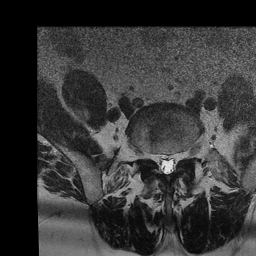CCS_normal: (163, 147, 171, 180)
LFS_normal: (178, 144, 186, 166)
LLS_normal: (171, 148, 178, 176)
RFS_normal: (145, 144, 154, 167)
RLS_normal: (154, 148, 162, 176)
